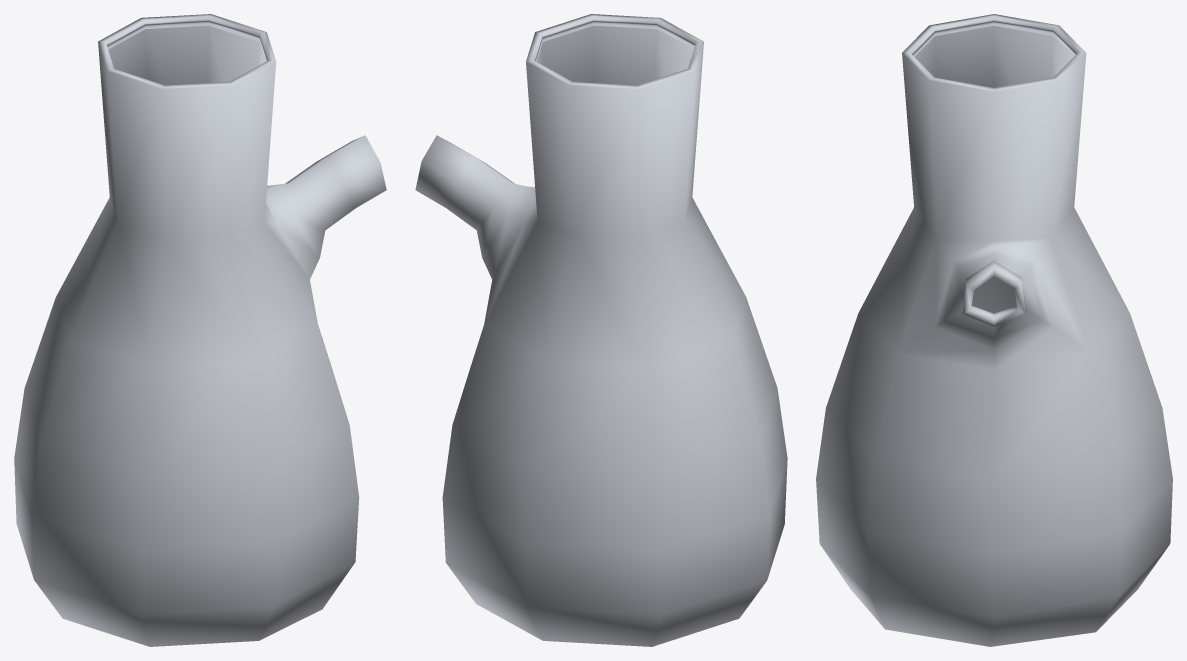
The model's file is bottle_glassware_buchner_flask_large.fbx.
The picture shows the model from 3 angles, left to right: view 1: azimuth 30°, elevation 25°; view 2: azimuth 150°, elevation 25°; view 3: azimuth 270°, elevation 25°; orthographic projection.
Parts seen in each view (by area): view 1: bottle_glassware_buchner_flask_large; view 2: bottle_glassware_buchner_flask_large; view 3: bottle_glassware_buchner_flask_large.
Part boxes in pixels (x1,y1,x2,y2): bottle_glassware_buchner_flask_large: [14, 14, 386, 646]; bottle_glassware_buchner_flask_large: [415, 14, 787, 646]; bottle_glassware_buchner_flask_large: [816, 14, 1172, 646].
Bounding box in the file's own units: 1666 × 2560 × 1515.
Materials: 1 (1 with a texture image).
